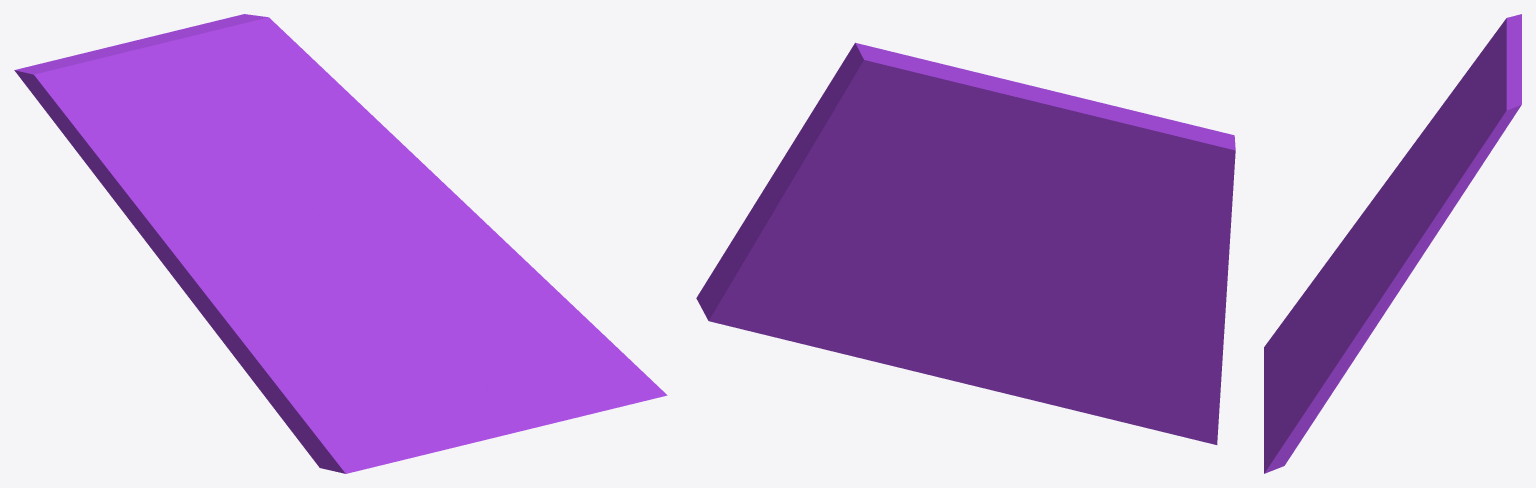
Rendered from Window_84_chunks.fbx.
3 renders of one model, left to right at view 1: azimuth 30°, elevation 25°; view 2: azimuth 150°, elevation 25°; view 3: azimuth 270°, elevation 25°, orthographic. The views are drawn at different scales.
Visible parts, largest first — view 1: Window_84_1, Window_84_13, Window_84_0, Window_84_24, Window_84_3, Window_84_20, Window_84_8, Window_84_23, Window_84_10, Window_84_30, Window_84_21, Window_84_14 (+15 smaller); view 2: Window_84_1, Window_84_10, Window_84_3, Window_84_13, Window_84_8, Window_84_19, Window_84_29, Window_84_22, Window_84_20, Window_84_24, Window_84_4, Window_84_12 (+16 smaller); view 3: Window_84_13, Window_84_1, Window_84_16, Window_84_8, Window_84_0, Window_84_24, Window_84_3, Window_84_10, Window_84_18, Window_84_14, Window_84_20, Window_84_23 (+16 smaller).
Boxes of the visible parts, left/top/right/bottom form: Window_84_1: left=51, top=111, right=253, bottom=313; Window_84_13: left=276, top=24, right=399, bottom=212; Window_84_0: left=170, top=200, right=325, bottom=315; Window_84_24: left=391, top=363, right=543, bottom=459; Window_84_3: left=222, top=61, right=308, bottom=218; Window_84_20: left=276, top=318, right=396, bottom=435; Window_84_8: left=190, top=14, right=282, bottom=132; Window_84_23: left=295, top=385, right=403, bottom=473; Window_84_10: left=14, top=41, right=159, bottom=117; Window_84_30: left=507, top=324, right=662, bottom=410; Window_84_21: left=228, top=252, right=333, bottom=342; Window_84_14: left=382, top=142, right=446, bottom=265; Window_84_1: left=1063, top=186, right=1233, bottom=330; Window_84_10: left=1014, top=101, right=1235, bottom=186; Window_84_3: left=858, top=94, right=1092, bottom=282; Window_84_13: left=803, top=48, right=971, bottom=222; Window_84_8: left=849, top=42, right=1033, bottom=178; Window_84_19: left=1069, top=289, right=1224, bottom=402; Window_84_29: left=824, top=271, right=995, bottom=360; Window_84_22: left=939, top=246, right=1073, bottom=322; Window_84_20: left=986, top=322, right=1219, bottom=420; Window_84_24: left=924, top=342, right=1105, bottom=417; Window_84_4: left=738, top=244, right=919, bottom=311; Window_84_12: left=873, top=211, right=992, bottom=264; Window_84_13: left=1397, top=117, right=1502, bottom=247; Window_84_1: left=1401, top=48, right=1484, bottom=190; Window_84_16: left=1264, top=374, right=1340, bottom=473; Window_84_8: left=1452, top=89, right=1521, bottom=141; Window_84_0: left=1360, top=162, right=1408, bottom=235; Window_84_24: left=1264, top=341, right=1307, bottom=424; Window_84_3: left=1405, top=136, right=1482, bottom=209; Window_84_10: left=1478, top=14, right=1521, bottom=85; Window_84_18: left=1339, top=281, right=1392, bottom=379; Window_84_14: left=1359, top=230, right=1432, bottom=302; Window_84_20: left=1297, top=269, right=1344, bottom=316; Window_84_23: left=1264, top=302, right=1308, bottom=369.
Size of the model in its own units: 1487 by 947 by 833.
